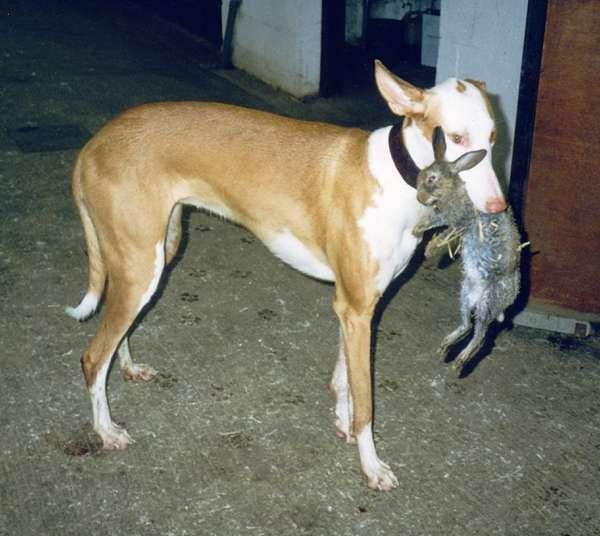Ibizan_hound: (60, 56, 506, 491)
